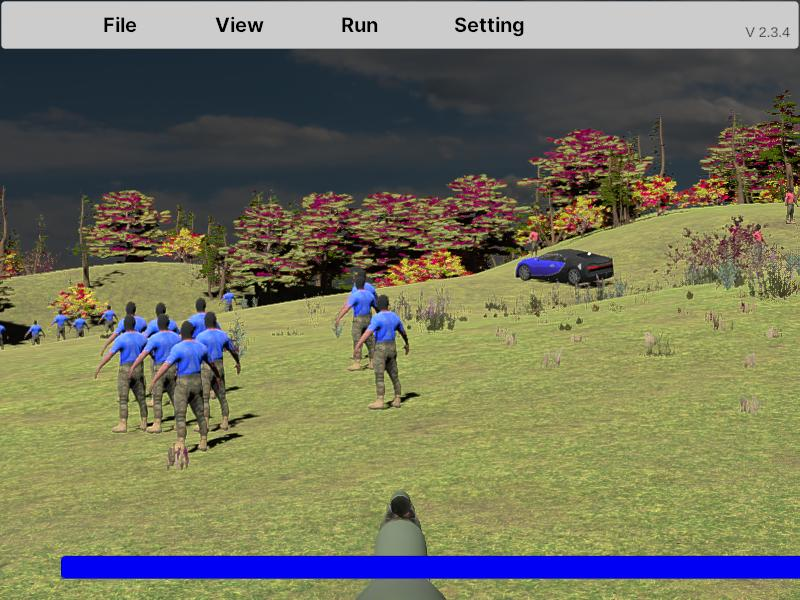Human: (148, 320, 221, 454), (129, 314, 202, 430), (95, 315, 160, 433), (184, 312, 241, 431), (354, 294, 409, 410), (336, 271, 385, 372), (129, 318, 163, 430)
car: (514, 248, 614, 287)
